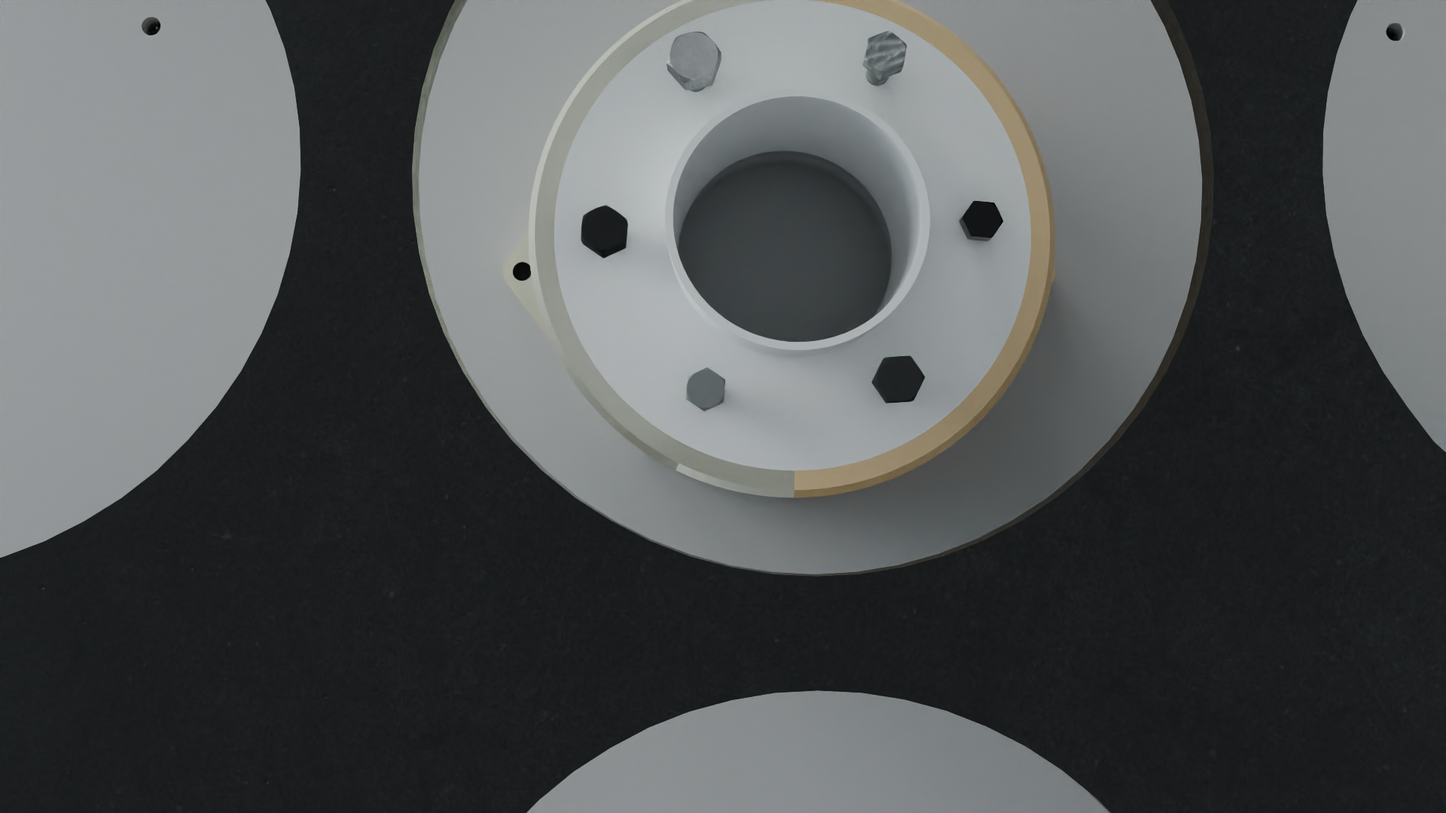bolt: (667, 32, 721, 84), (874, 355, 925, 402), (581, 205, 627, 254), (865, 31, 907, 75), (686, 367, 725, 411), (962, 201, 1003, 238)
